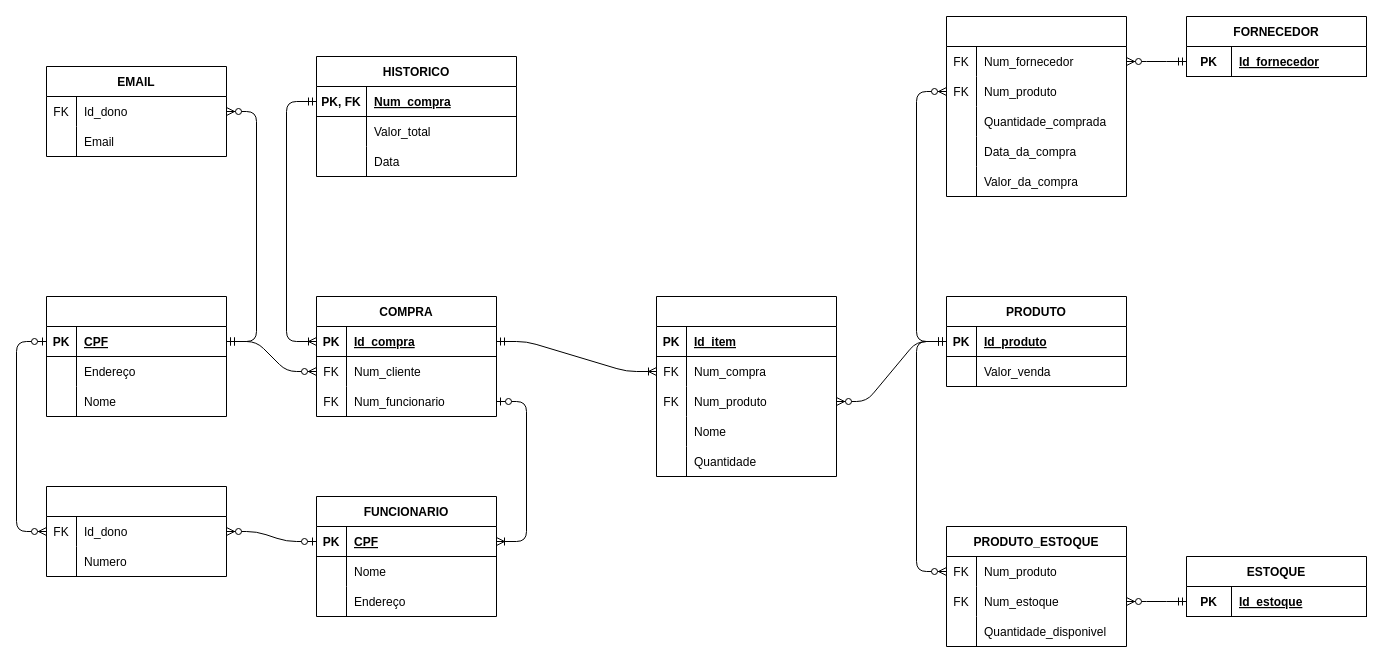
Image size: 1383x663. Some labels were removed from this diagram. The shapes that lost their labels are listed below. From the top down, each one's box as (x1, y1, x2, y2) in pixels, then its label:
(946, 16, 1126, 196): PRODUTO_FORNECEDOR
(46, 296, 226, 416): CLIENTE
(656, 296, 836, 476): ITEM_COMPRA
(46, 486, 226, 576): TELEFONE
